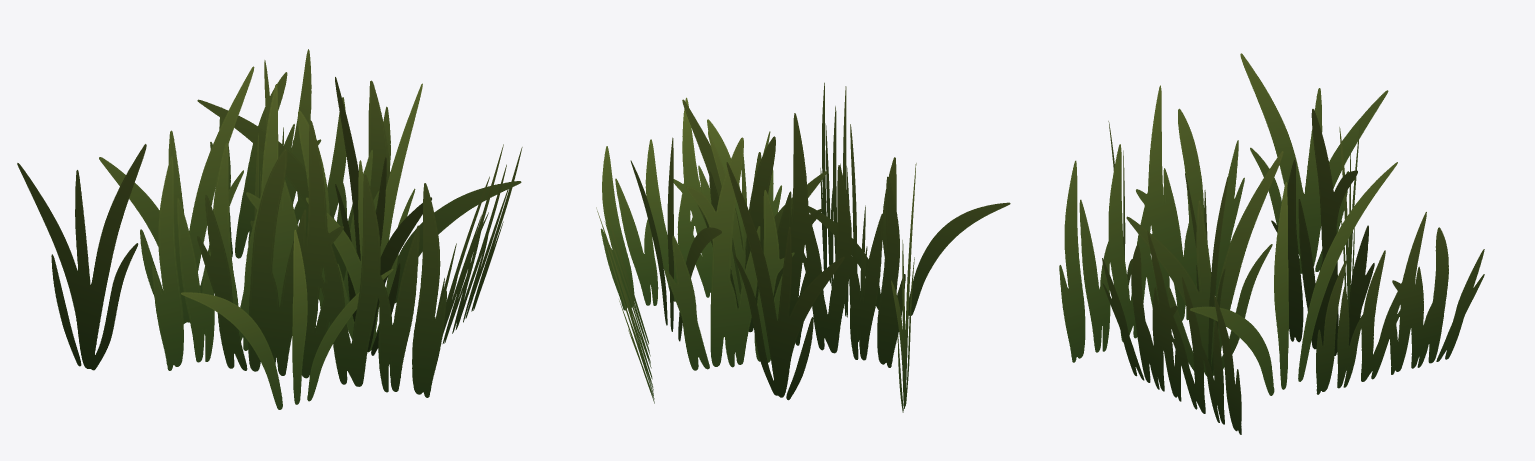
3 renders of one model, left to right at view 1: azimuth 30°, elevation 25°; view 2: azimuth 150°, elevation 25°; view 3: azimuth 270°, elevation 25°, orthographic. The views are drawn at different scales.
Parts seen in each view (by area): view 1: pl-grass-lush-b; view 2: pl-grass-lush-b; view 3: pl-grass-lush-b.
Part boxes in pixels (x1=…): pl-grass-lush-b: x1=17, y1=49, x2=522, y2=409; pl-grass-lush-b: x1=596, y1=82, x2=1010, y2=412; pl-grass-lush-b: x1=1059, y1=53, x2=1484, y2=434.
Size of the model in its own units: 1.36 by 0.8492 by 1.33.
1 material, 1 textured.
